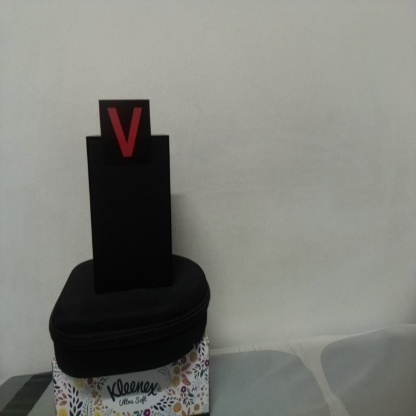id_11: (99, 100, 151, 165)
